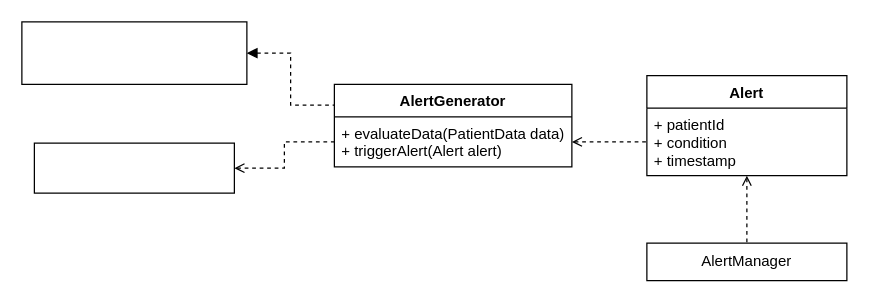
Image size: 869x303. Some labels were removed from this diagram. The shapes that lost their labels are listed below. From the top down, each one's box as (x1, y1, x2, y2) in pixels, then its label:
(21, 21, 247, 84): «interface» Patient Identification System
(33, 142, 234, 193): Data Storage System
